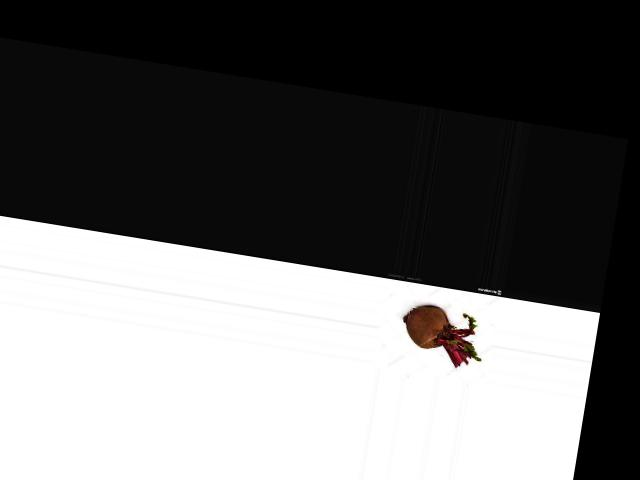beet: (396, 300, 488, 371)
